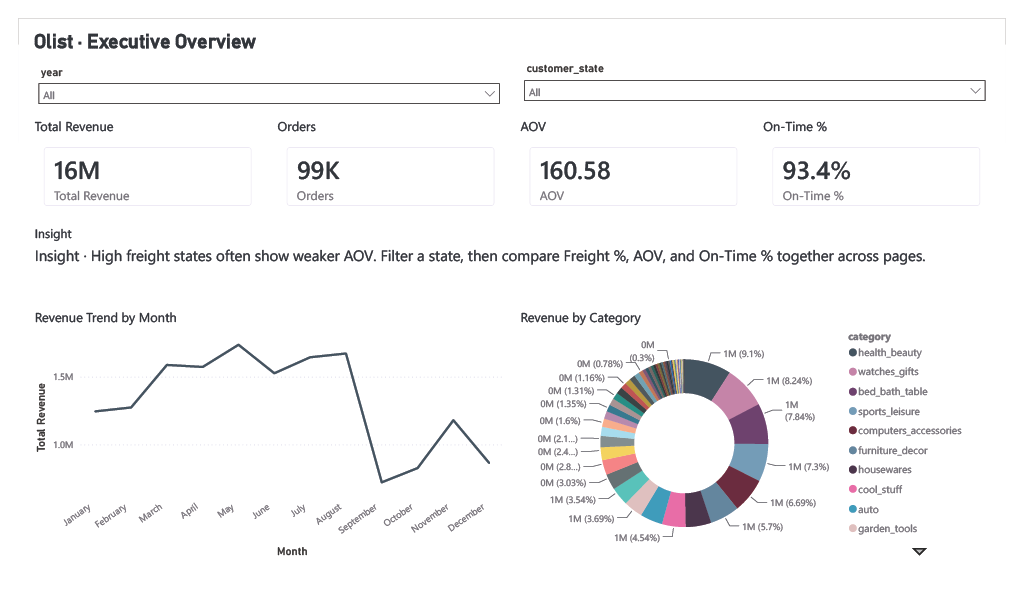

The page's visual inventory and layout, read from the dashboard file:
{"tool":"powerbi","page":{"name":"01 Executive Overview","canvas":[1280,720],"ordinal":0},"visuals":[{"type":"textbox","box":[16,8,1248,44],"z":0},{"type":"slicer","title":"Year","fields":{"Values":["vw_sales.year"]},"box":[16,56,618,64],"z":1000},{"type":"slicer","title":"Customer State","fields":{"Values":["vw_sales.customer_state"]},"box":[645.7,52,618.1,68.3],"z":2000},{"type":"cardVisual","title":"Total Revenue","fields":{"Data":["vw_sales.Total Revenue"]},"box":[16,128,303,132],"z":3000},{"type":"cardVisual","title":"Orders","fields":{"Data":["vw_sales.Orders"]},"box":[331,128,303,132],"z":4000},{"type":"cardVisual","title":"AOV","fields":{"Data":["vw_sales.AOV"]},"box":[646,128,303,132],"z":5000},{"type":"cardVisual","title":"On-Time %","fields":{"Data":["vw_sales.On-Time %"]},"box":[961,128,303,132],"z":6000},{"type":"textbox","title":"Insight","box":[16,268,1248,100],"z":7000},{"type":"lineChart","title":"Revenue Trend by Month","fields":{"Y":["vw_sales.Total Revenue"],"Category":["vw_sales.purchase_date.Variation.Date Hierarchy.Month"]},"box":[16,376,618,328],"z":8000},{"type":"donutChart","title":"Revenue by Category","fields":{"Category":["vw_sales.category"],"Y":["vw_sales.Total Revenue"]},"box":[646,376,618,328],"z":9000}]}

Visuals, with their boxes in screenshot pixels (x1, y1, x2, y2), scaled from the page's 1280x720 canvas onto the 1024x592 screenshot:
textbox: 13:7:1011:43
"Year" slicer: 13:46:507:99
"Customer State" slicer: 517:43:1011:99
"Total Revenue" cardVisual: 13:105:255:214
"Orders" cardVisual: 265:105:507:214
"AOV" cardVisual: 517:105:759:214
"On-Time %" cardVisual: 769:105:1011:214
"Insight" textbox: 13:220:1011:303
"Revenue Trend by Month" lineChart: 13:309:507:579
"Revenue by Category" donutChart: 517:309:1011:579
